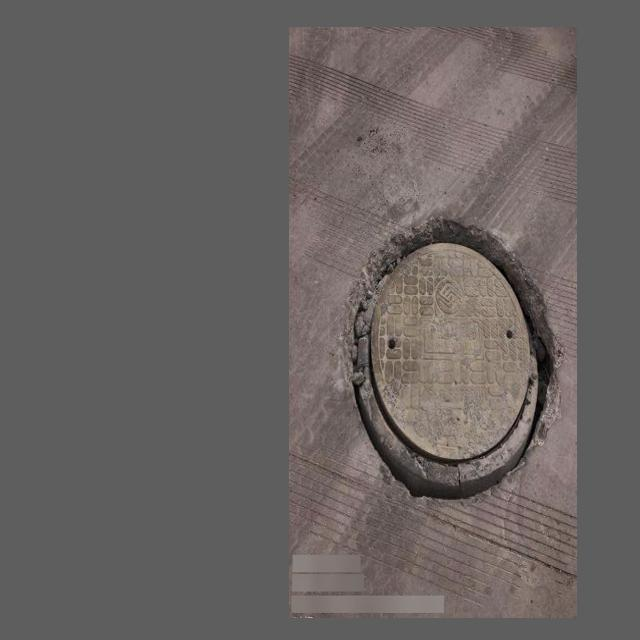circle: (346, 220, 552, 505)
